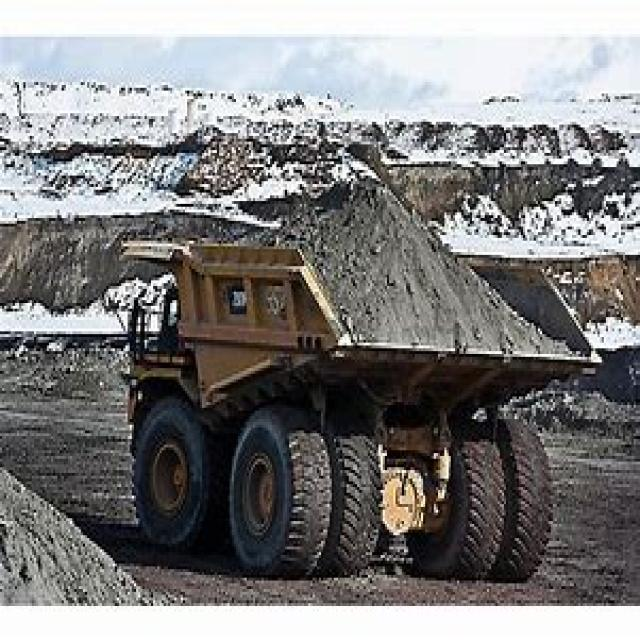dump_truck: (124, 175, 596, 575)
